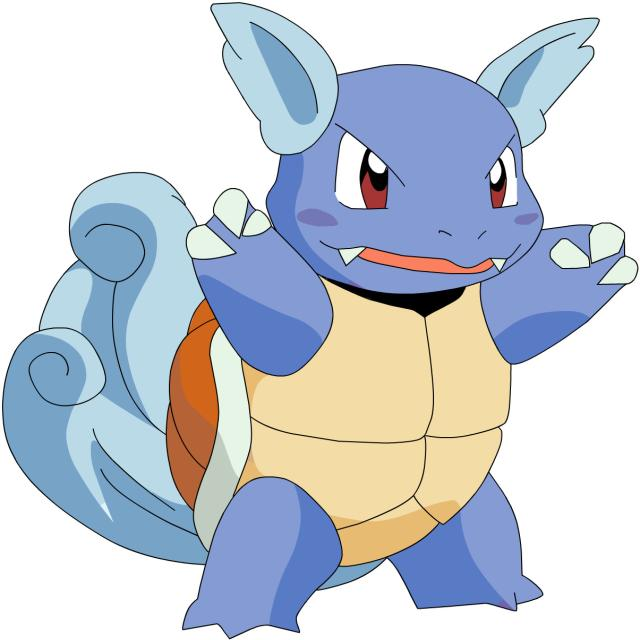Wartortle: (140, 0, 600, 614)
